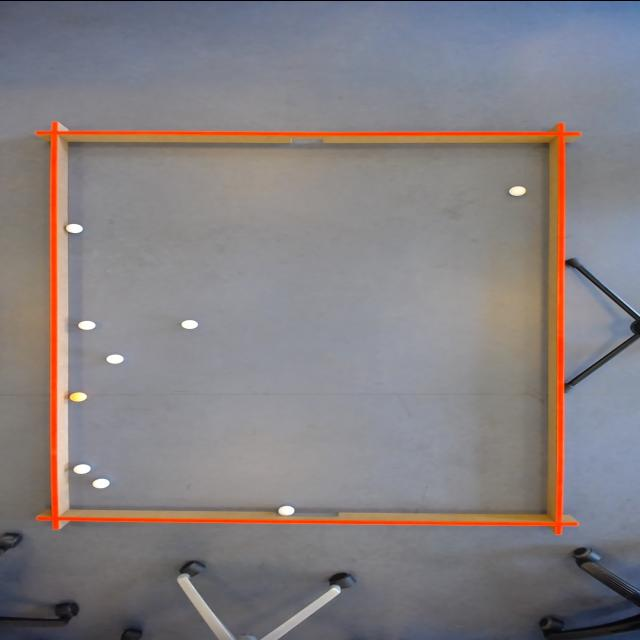orange_ball: (66, 390, 90, 402)
white_ball: (275, 503, 299, 518), (506, 183, 532, 196), (76, 318, 100, 332), (63, 220, 87, 234), (178, 318, 204, 330), (90, 476, 114, 489), (71, 462, 94, 474), (105, 353, 127, 365)
